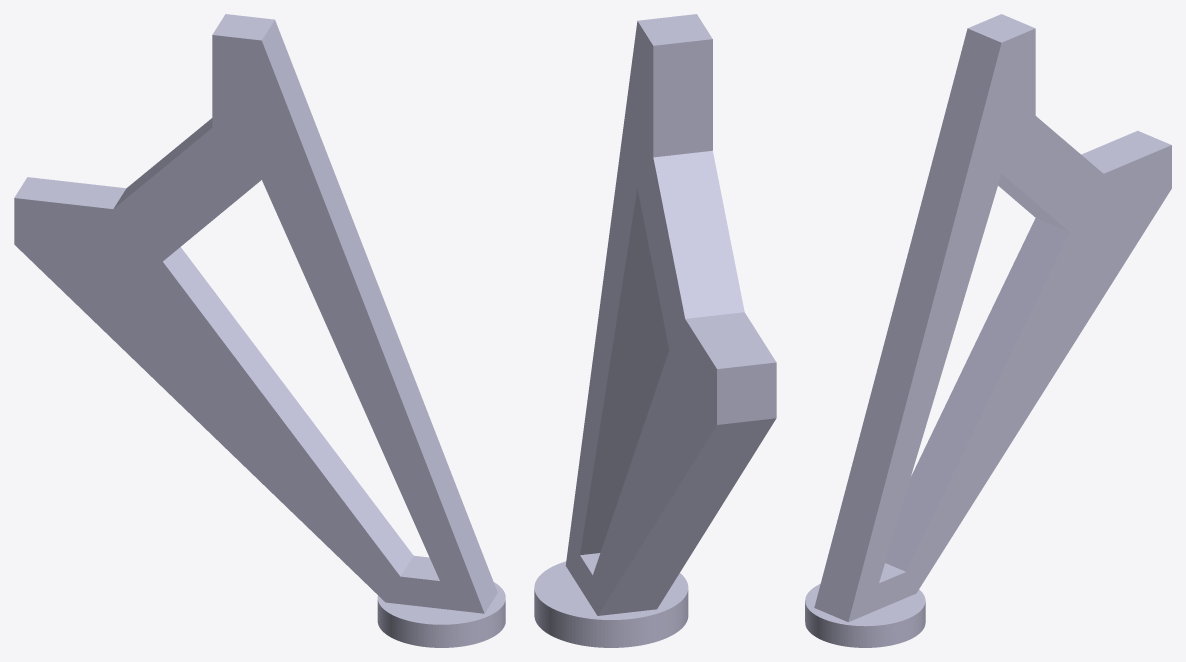
Rendered from LegFR.dae.
3 views of the same model, side by side, from view 1: azimuth 30°, elevation 25°; view 2: azimuth 150°, elevation 25°; view 3: azimuth 270°, elevation 25° (orthographic). The views are drawn at different scales.
Parts seen in each view (by area): view 1: node0; view 2: node0; view 3: node0.
Boxes of the visible parts, left/top/right/bottom form: node0: left=14, top=14, right=505, bottom=647; node0: left=534, top=14, right=776, bottom=647; node0: left=805, top=14, right=1171, bottom=647.
Size of the model in its own units: 0.3807 by 0.3807 by 0.6147.
